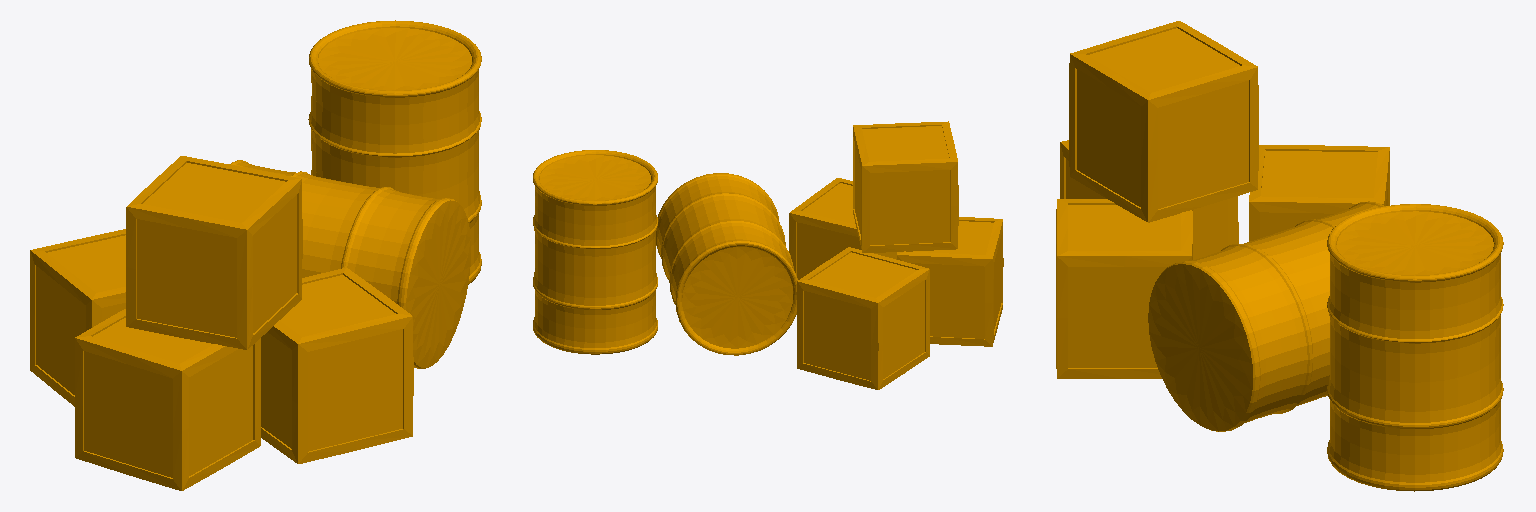
URDF robot description (barrels):
<robot name="barrels">
  <link name="barrels">
    <inertial>
      <origin xyz="0 0 0.0145"/>
      <mass value="0.1" />
      <inertia  ixx="0.0001" ixy="0.0"  ixz="0.0"  iyy="0.0001"  iyz="0.0"  izz="0.0001" />
    </inertial>
    <visual>
      <origin xyz="0 0 0.0145"/>
      <geometry>        
     <mesh filename="barrels.dae" scale="1 1 1"/>
    </geometry>
    </visual>
    <collision>
      <origin xyz="0 0 0.0145"/>
      <geometry>
        <box size="0.029 0.029 0.029"/>
      </geometry>
    </collision>
  </link>
  <gazebo reference="barrels">
    <material>Gazebo/Blue</material>
  </gazebo>
</robot>

--- Facts derived from the render (not from the file) ---
Views: 3 orthographic renders of the robot side by side, from view 1: azimuth 30°, elevation 25°; view 2: azimuth 150°, elevation 25°; view 3: azimuth 270°, elevation 25°.
Model barrels with 1 links and 0 joints (none), rooted at barrels, posed all joints at 0.
Visible links, largest first — view 1: barrels; view 2: barrels; view 3: barrels.
Link boxes in pixels (<box>): barrels: <box>30,20,481,490</box>; barrels: <box>533,121,1003,389</box>; barrels: <box>1056,21,1503,491</box>.
Bounding box of the posed robot: 1.8 × 1.35 × 0.8222 m (x, y, z).
1 mesh visuals loaded from 1 distinct referenced files (1 Collada DAE).